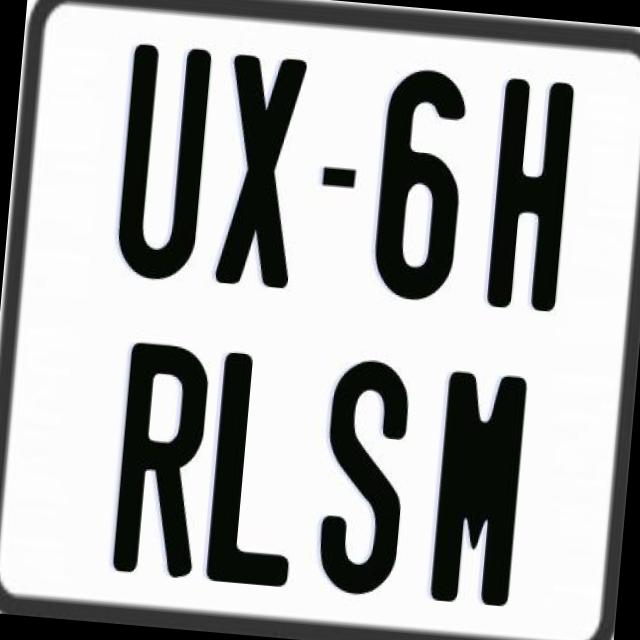6: (366, 64, 473, 304)
H: (486, 75, 576, 315)
L: (202, 352, 310, 596)
M: (428, 365, 528, 603)
R: (110, 342, 216, 589)
S: (315, 354, 417, 596)
U: (112, 43, 212, 283)
X: (210, 52, 310, 292)
